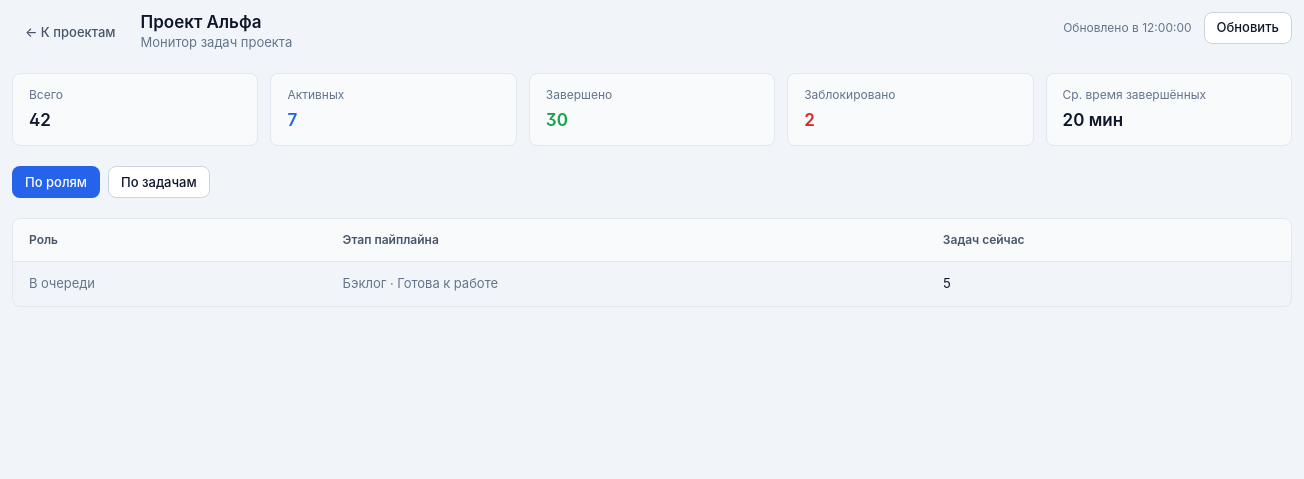
Test: ProjectMonitor — наблюдаемость (KPI, причина блока, форс-док) › помечает задачу с форс-продвижением документации бейджем «форс-док»
Click the tab "По задачам": x=159, y=182 [108,166,210,198]
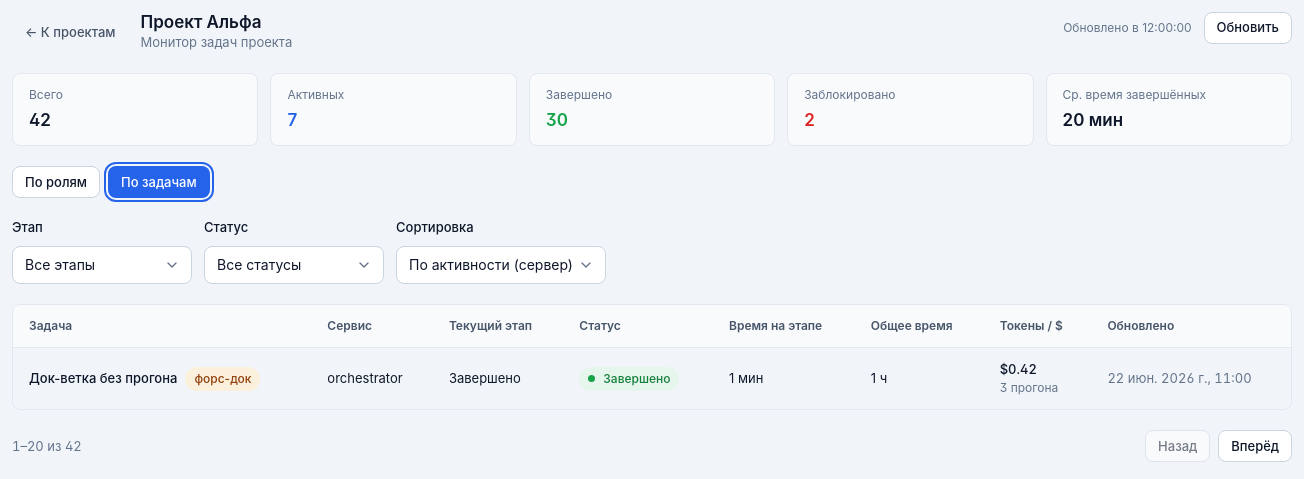
Check: the text "форс-док" is shown, box [185,366,260,390]
